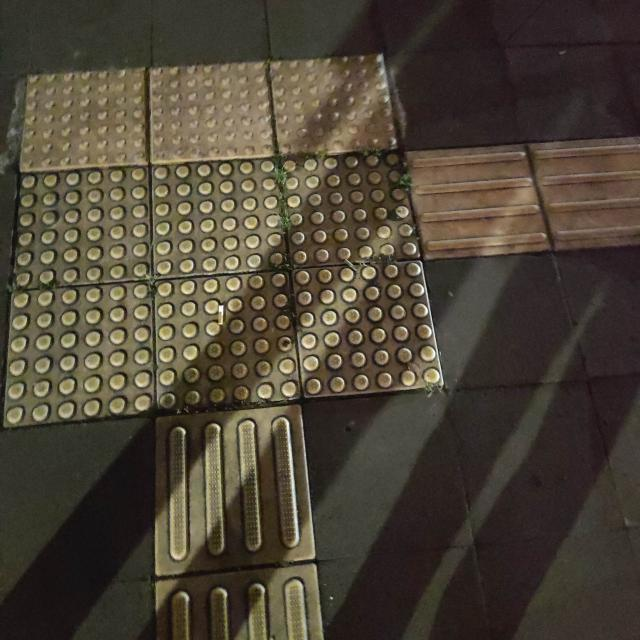kanan: (110, 118, 640, 480)
